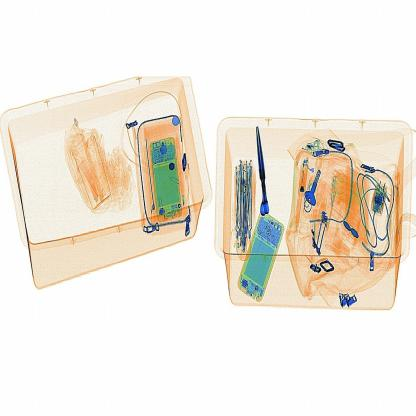gun: (248, 111, 284, 225)
